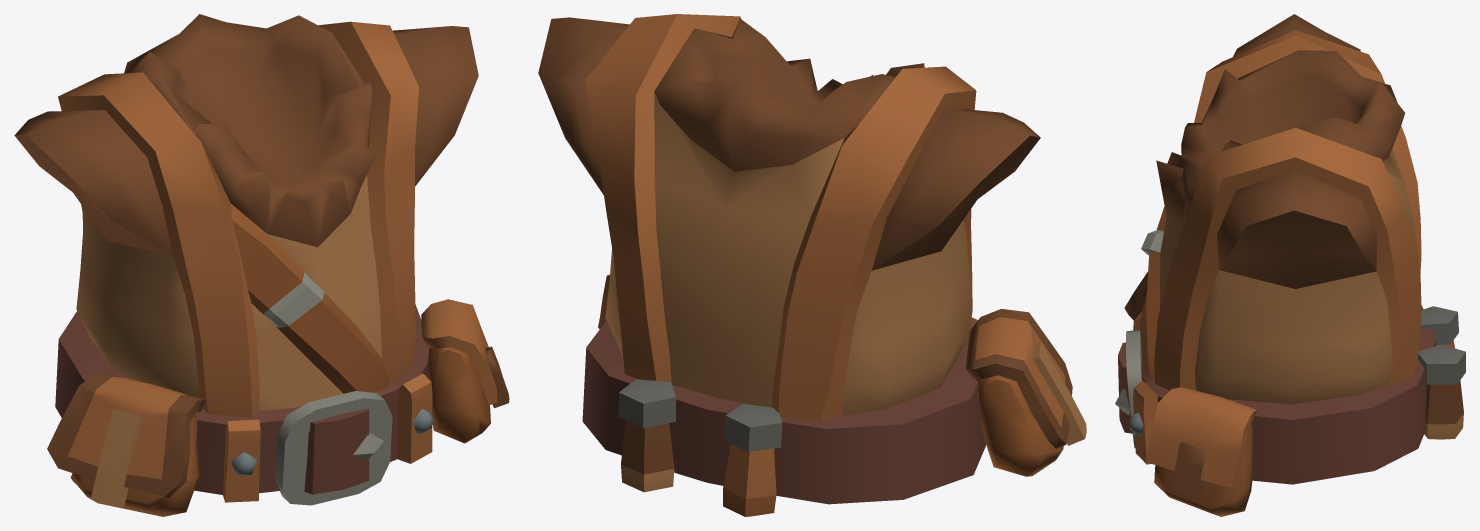
Rendered from Chest_57.fbx.
3 views of the same model, side by side, from view 1: azimuth 30°, elevation 25°; view 2: azimuth 150°, elevation 25°; view 3: azimuth 270°, elevation 25° (orthographic). The views are drawn at different scales.
Parts seen in each view (by area): view 1: Chest_57; view 2: Chest_57; view 3: Chest_57.
Boxes of the visible parts, x1,y1,x2,y2 form: Chest_57: [14, 14, 509, 516]; Chest_57: [538, 14, 1086, 516]; Chest_57: [1115, 14, 1465, 516].
Bounding box in the file's own units: 61.6 × 51.81 × 46.16.
